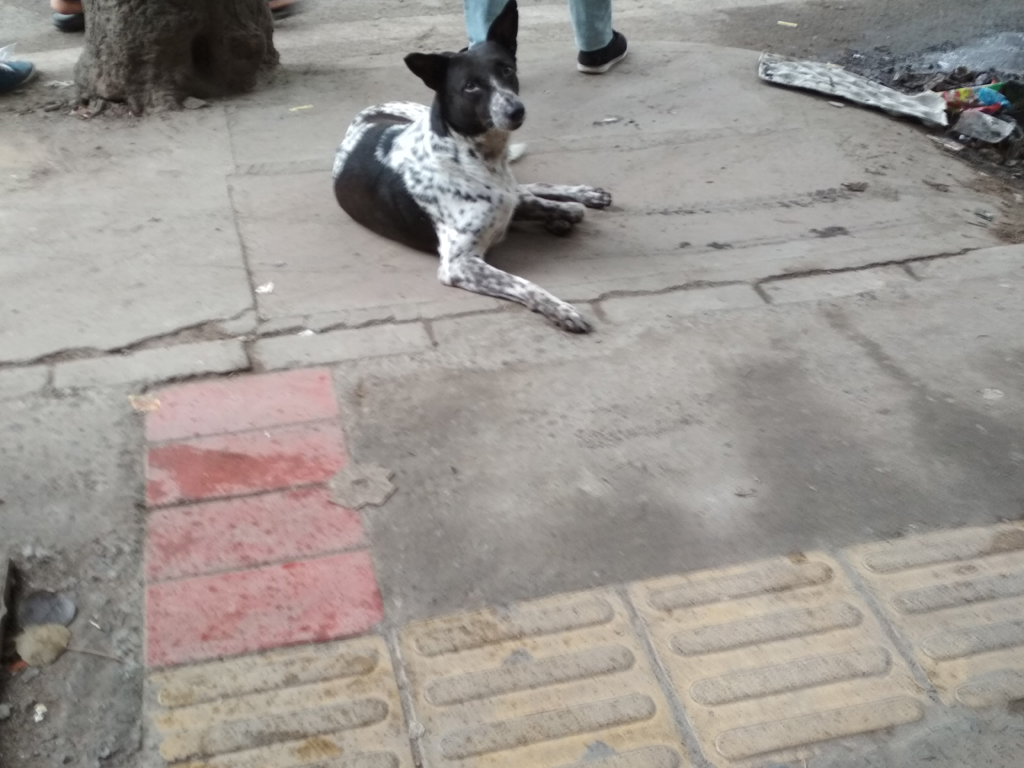dog: (332, 1, 612, 333)
